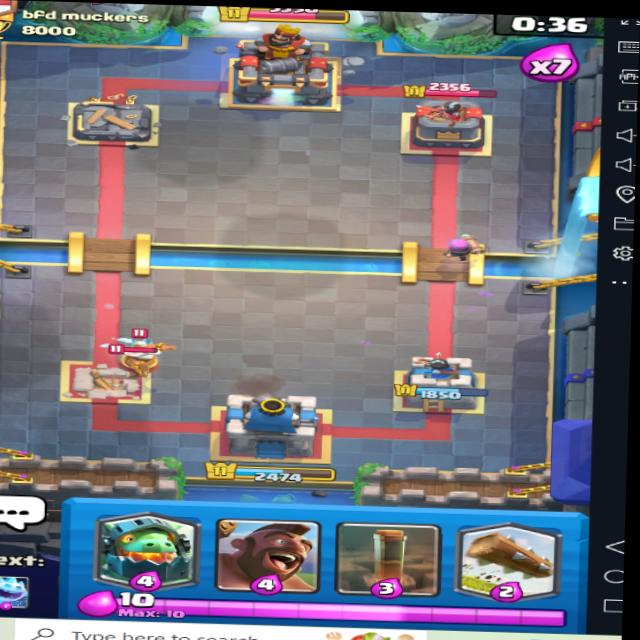Icespirit: (116, 337, 165, 354)
Monk: (102, 340, 182, 384)
